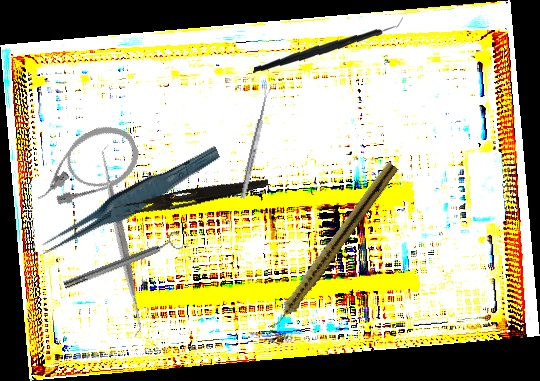Cannula: (21, 116, 148, 217)
Chopper: (253, 7, 404, 81)
Dressing Forceps: (113, 171, 270, 223)
Fixation Ring: (60, 230, 185, 294)
Handpiece: (264, 159, 400, 335)
Spatula Surgical: (24, 144, 219, 338)
Surgical Spoon: (239, 86, 272, 200)
Tissue Forceps: (31, 143, 228, 258)
